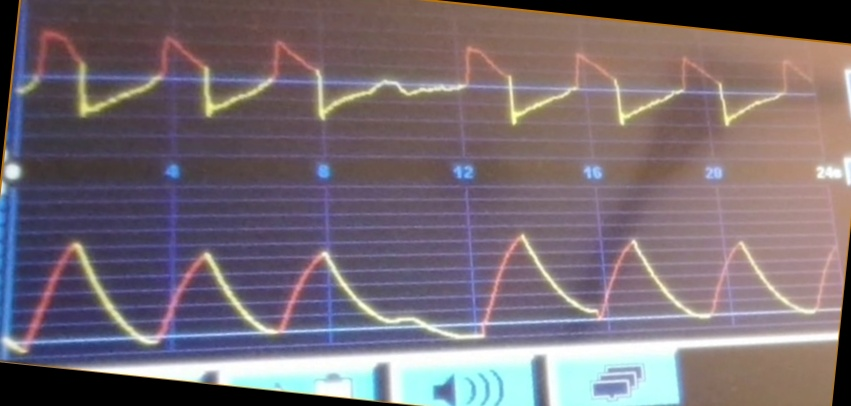Ineffective_effort Flow: (20, 26, 810, 137)
Ineffective_effort Volume: (10, 226, 834, 352)
